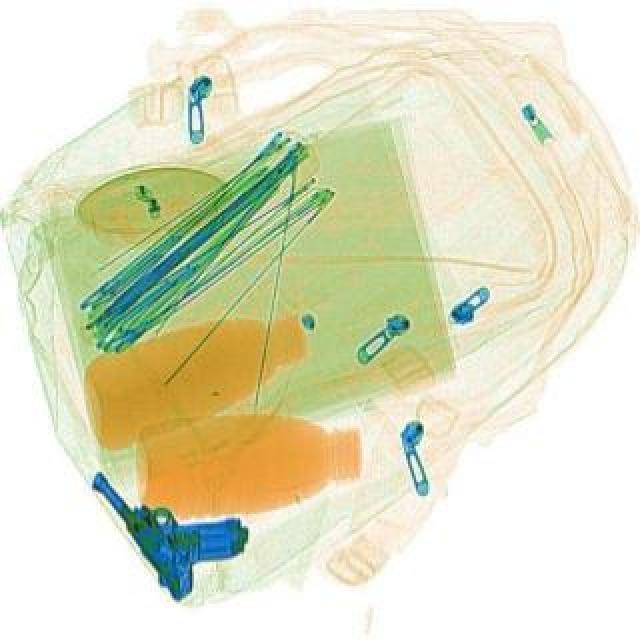gun: (80, 432, 262, 608)
